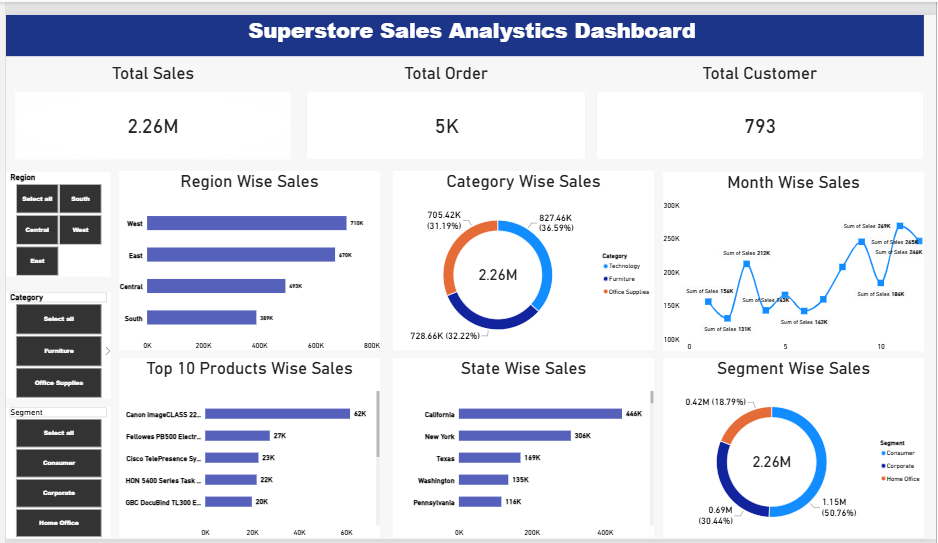

Layout of this report page (visuals, bound fields, positions):
{"tool":"powerbi","page":{"name":"Page 1","canvas":[1920,1080],"ordinal":0},"visuals":[{"type":"textbox","box":[0,0,1895,85.3],"z":0},{"type":"cardVisual","title":"Total Sales","fields":{"Data":["superstoretable.Total Sales"]},"box":[18.7,99.8,570,199.7],"z":1000},{"type":"cardVisual","title":"Total Order","fields":{"Data":["superstoretable.total orders"]},"box":[619.9,99.8,578.3,199.7],"z":2000},{"type":"cardVisual","title":"Total Customer","fields":{"Data":["superstoretable.Total Customers"]},"box":[1219,99.8,676.1,199.7],"z":3000},{"type":"clusteredBarChart","title":"State Wise Sales","fields":{"Y":["Sum(superstoretable.Sales)"],"Category":["superstoretable.State"]},"box":[799.2,708.9,538.8,370.3],"z":4000},{"type":"donutChart","title":" Category Wise Sales ","fields":{"Y":["Sum(superstoretable.Sales)"],"Category":["superstoretable.Category"]},"box":[799.2,322,538.8,370.3],"z":5000},{"type":"lineChart","title":" Month Wise Sales ","fields":{"Y":["Sum(superstoretable.Sales)"],"Category":["superstoretable.month"]},"box":[1356.9,324,538.8,370.3],"z":6000},{"type":"donutChart","title":"Segment Wise Sales ","fields":{"Y":["Sum(superstoretable.Sales)"],"Category":["superstoretable.Segment"]},"box":[1356.9,708.9,538.8,370.3],"z":7000},{"type":"clusteredBarChart","title":" Region Wise Sales ","fields":{"Category":["superstoretable.Region"],"Y":["Sum(superstoretable.Sales)"]},"box":[233.7,322,538.8,370.3],"z":8000},{"type":"clusteredBarChart","title":"Top 10 Products Wise Sales","fields":{"Y":["Sum(superstoretable.Sales)"],"Category":["superstoretable.Product_Name"]},"box":[233.7,708.9,538.8,370.3],"z":9000},{"type":"slicer","fields":{"Values":["superstoretable.Category"]},"box":[0,572,216.3,220.5],"z":10000},{"type":"slicer","fields":{"Values":["superstoretable.Segment"]},"box":[0,809.2,216.3,270.4],"z":11000},{"type":"slicer","fields":{"Values":["superstoretable.Region"]},"box":[0,324.5,216.3,216.3],"z":12000}]}

Visuals, with their boxes in screenshot pixels (x1, y1, x2, y2), scaled from the page's 1920x1080 canvas onto the 938x543 screenshot:
textbox: l=0, t=0, r=926, b=43
"Total Sales" cardVisual: l=9, t=50, r=288, b=151
"Total Order" cardVisual: l=303, t=50, r=585, b=151
"Total Customer" cardVisual: l=596, t=50, r=926, b=151
"State Wise Sales" clusteredBarChart: l=390, t=356, r=654, b=542
" Category Wise Sales " donutChart: l=390, t=162, r=654, b=348
" Month Wise Sales " lineChart: l=663, t=163, r=926, b=349
"Segment Wise Sales " donutChart: l=663, t=356, r=926, b=542
" Region Wise Sales " clusteredBarChart: l=114, t=162, r=377, b=348
"Top 10 Products Wise Sales" clusteredBarChart: l=114, t=356, r=377, b=542
slicer - superstoretable.Category: l=0, t=288, r=106, b=398
slicer - superstoretable.Segment: l=0, t=407, r=106, b=542
slicer - superstoretable.Region: l=0, t=163, r=106, b=272
